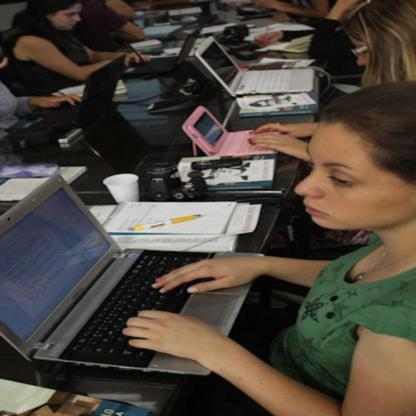board: (8, 180, 248, 396), (2, 55, 125, 131), (194, 38, 313, 96), (182, 106, 277, 156), (120, 24, 200, 74)
